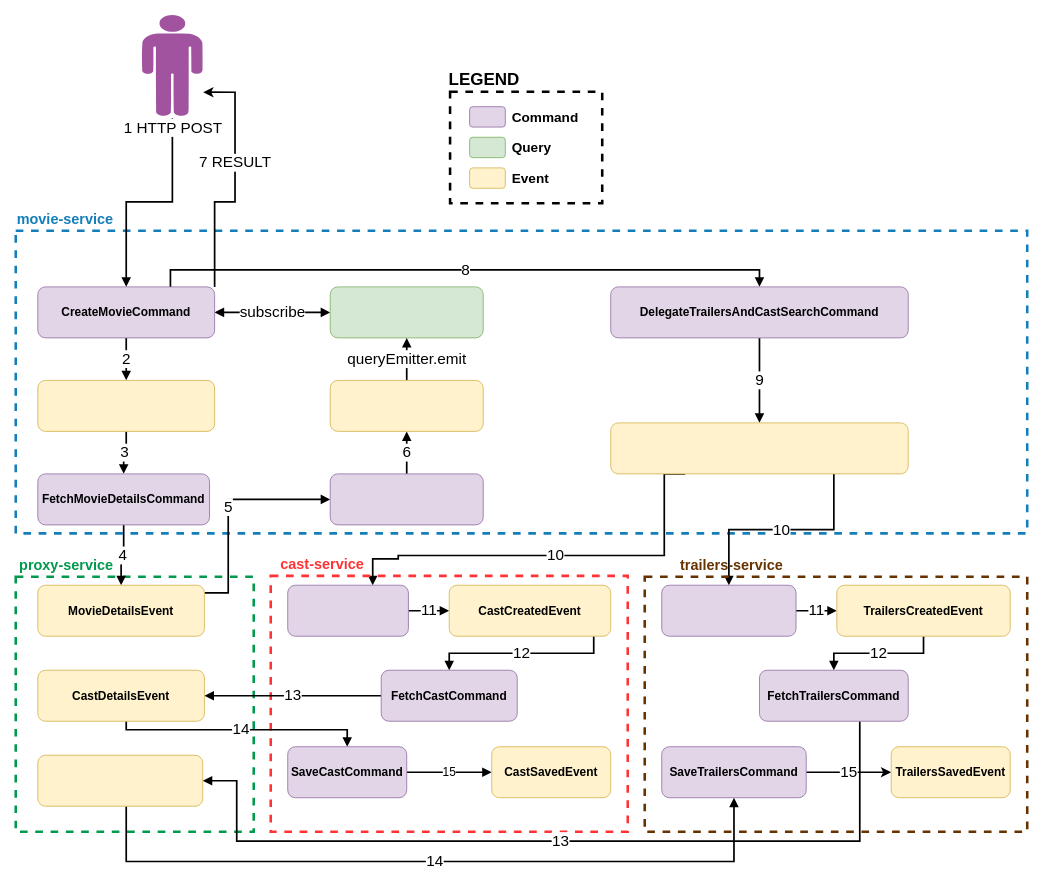
Image size: 1043x886. Some labels were removed from this diagram. The shapes that lost their labels are listed below. From the top down, each one's centre as x and y in pixels, then its label:
the point at 172,65: User looking for a movie
the point at 406,312: GetMovieQuery
the point at 126,405: MovieCreatedEvent
the point at 406,405: MovieSavedEvent
the point at 759,448: TrailersAndCastSearchDelegatedEvent
the point at 406,499: SaveMovieCommand
the point at 347,610: CreateCastCommand
the point at 728,610: CreateTrailersCommand
the point at 120,780: TrailersDetailsEvent
